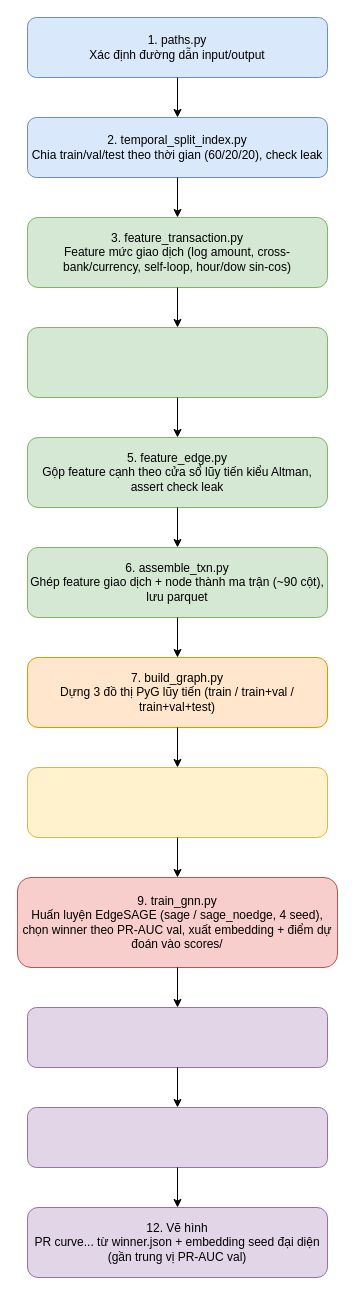
Image size: 355x1295. Some labels were removed from this diagram. Each missing label, with the centre of its shape:
"10. Kết quả Đọc results.csv, in bảng metric theo model/split" goes at point 177,1037.
"11. Kiểm tra dung lượng output Giới hạn 20GB trong /kaggle/working" goes at point 177,1137.
"4. feature_node.py Feature as-of mức node và cặp (src, dest) — tốn RAM nhất" goes at point 177,362.
"8. metrics.py Định nghĩa hàm đánh giá (F1, PR-AUC, recall@FPR1%, precision@k)" goes at point 177,802.
